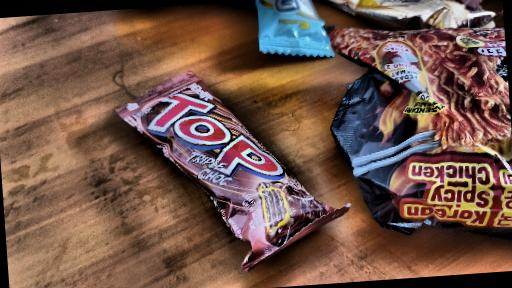top: (110, 58, 333, 282)
